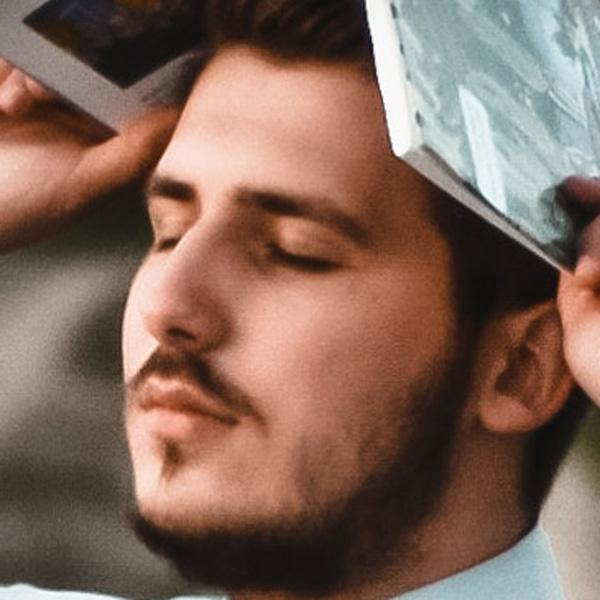Eyes: (251, 211, 356, 280), (146, 196, 200, 256)
